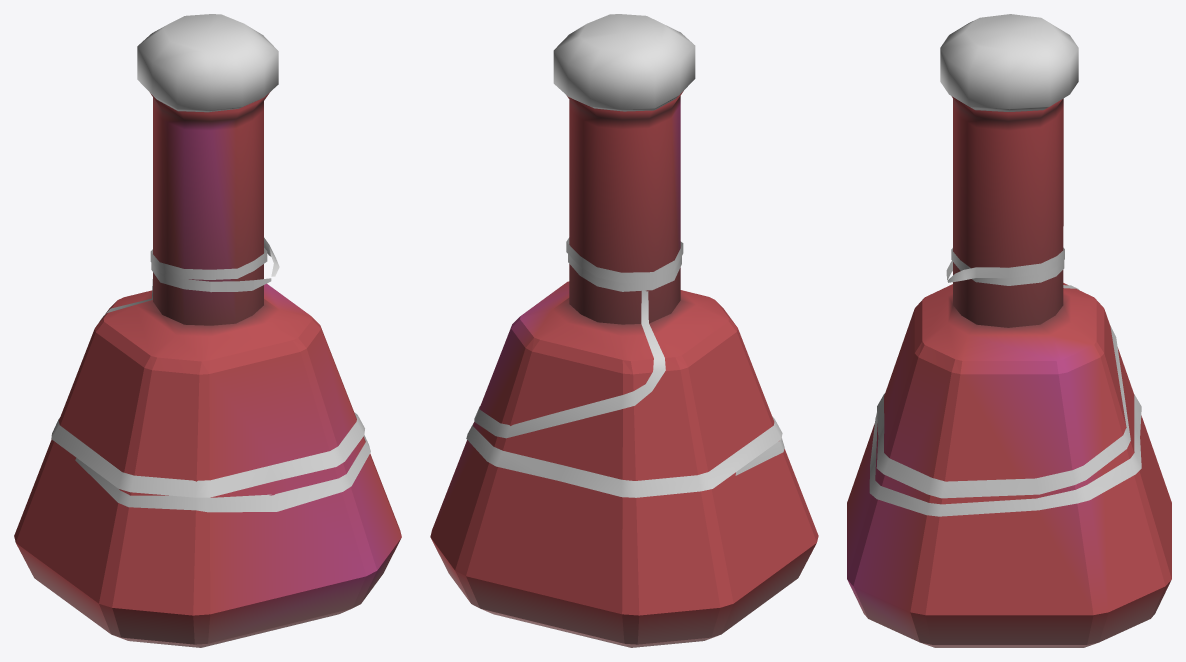
File: hp_potion.fbx
3 views of the same model, side by side, from view 1: azimuth 30°, elevation 25°; view 2: azimuth 150°, elevation 25°; view 3: azimuth 270°, elevation 25° (orthographic).
Parts seen in each view (by area): view 1: PotionHealthLesser:0; view 2: PotionHealthLesser:0; view 3: PotionHealthLesser:0.
Boxes of the visible parts, left/top/right/bottom form: PotionHealthLesser:0: left=14, top=14, right=401, bottom=647; PotionHealthLesser:0: left=430, top=14, right=818, bottom=647; PotionHealthLesser:0: left=847, top=14, right=1171, bottom=647.
Bounding box in the file's own units: 918 × 1609 × 848.
